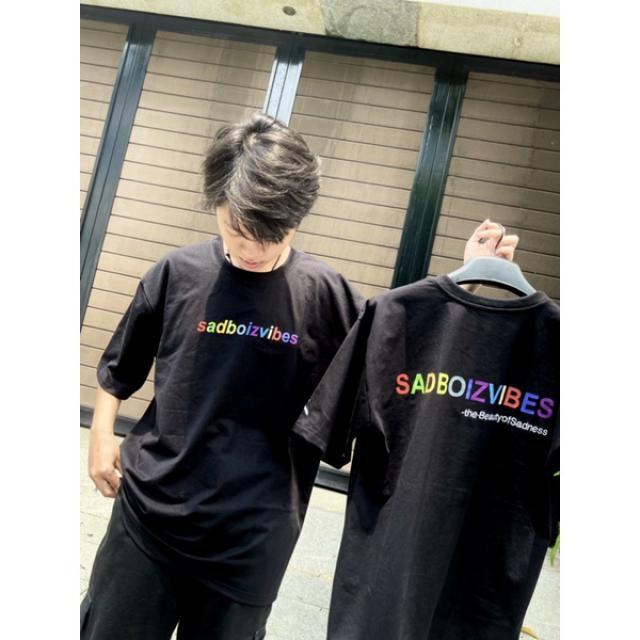Shirt: (304, 263, 557, 639), (93, 242, 364, 555)
